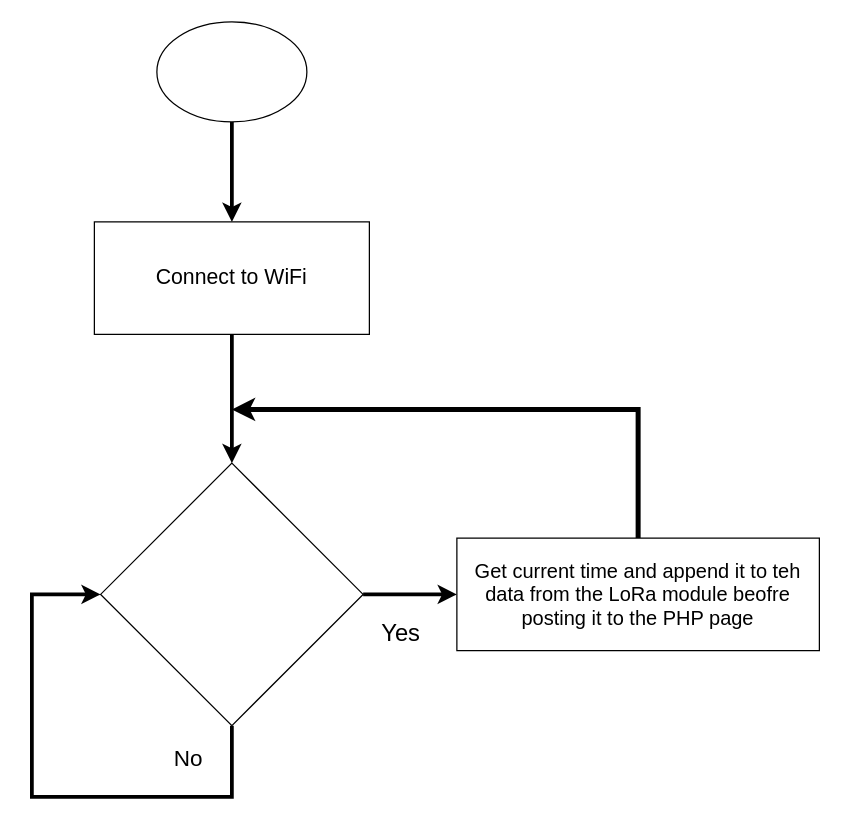
The diagram is 841 pixels wide and 830 high, and some of its shapes have lost their labels. The shapes that lost their labels are listed below. From the top down, each one's box as (x1, y1, x2, y2) in pixels, then its label:
(156, 21, 307, 122): Start
(99, 462, 363, 726): Packet availible on serial?
